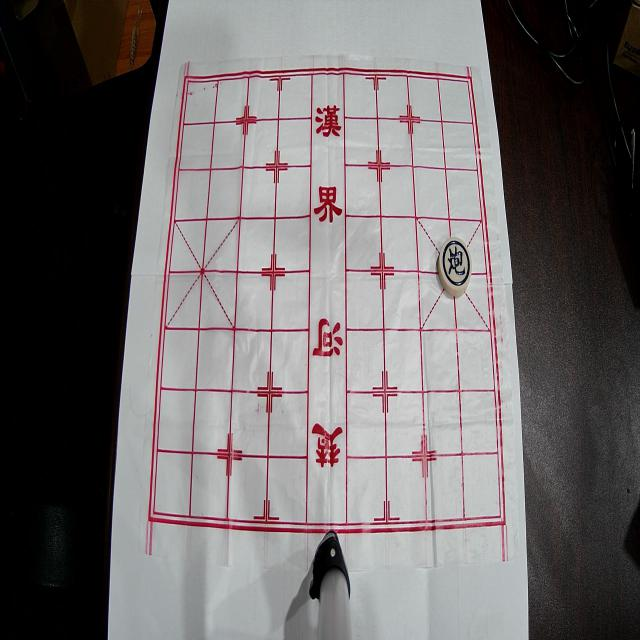black-cannon: (438, 237, 472, 296)
